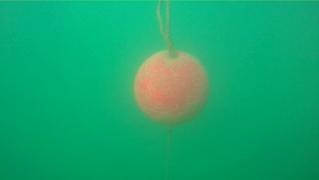buoy: (133, 48, 211, 127)
